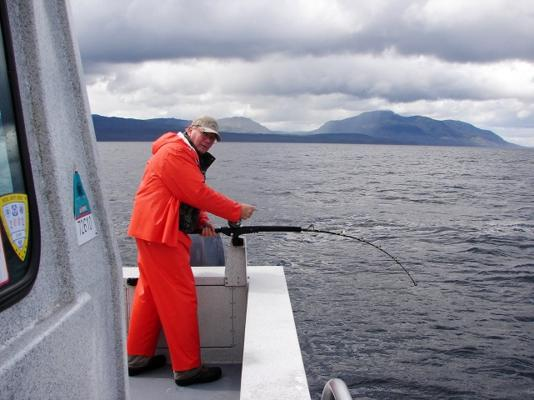person: (127, 116, 258, 386)
